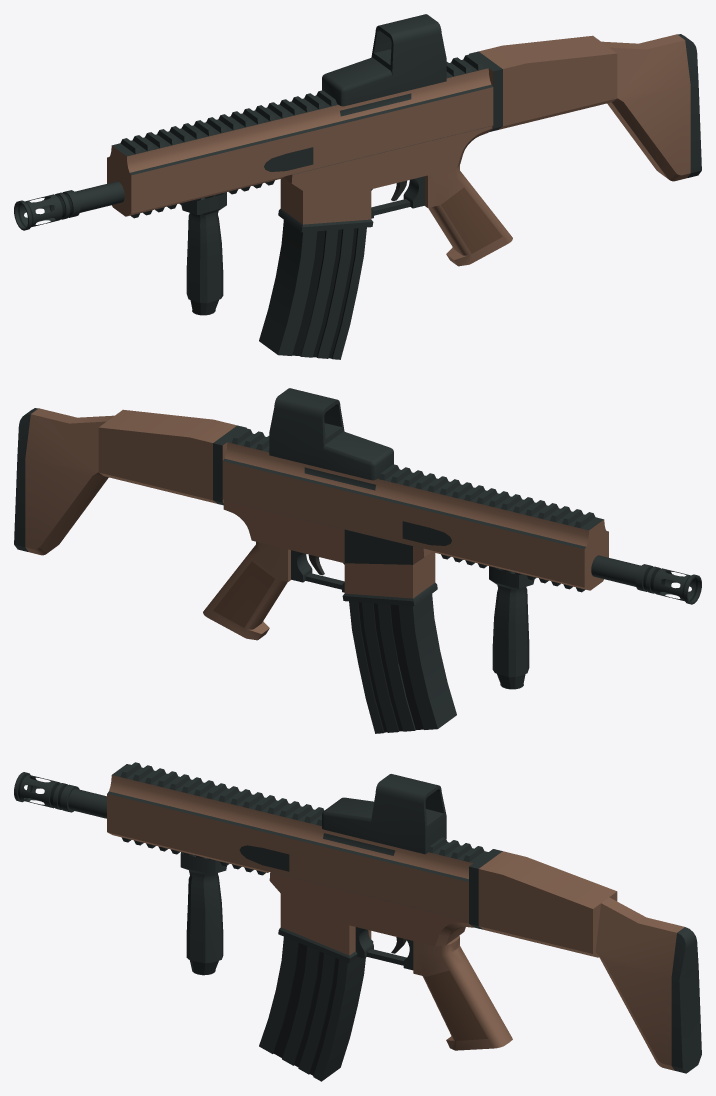
The model's file is guns_low_poly.gltf.
3 views of the same model, one above another, from view 1: azimuth 30°, elevation 25°; view 2: azimuth 150°, elevation 25°; view 3: azimuth 330°, elevation 25° (orthographic).
Parts seen in each view (by area): view 1: MG1_Grey_0; view 2: MG1_Grey_0; view 3: MG1_Grey_0.
Part boxes in pixels (box(x1,y1,x2,y2)): MG1_Grey_0: box(14, 14, 701, 359); MG1_Grey_0: box(14, 388, 701, 733); MG1_Grey_0: box(14, 762, 701, 1081).
Bounding box in the file's own units: 3.78 × 1.67 × 0.237.
1 material, 1 textured.
